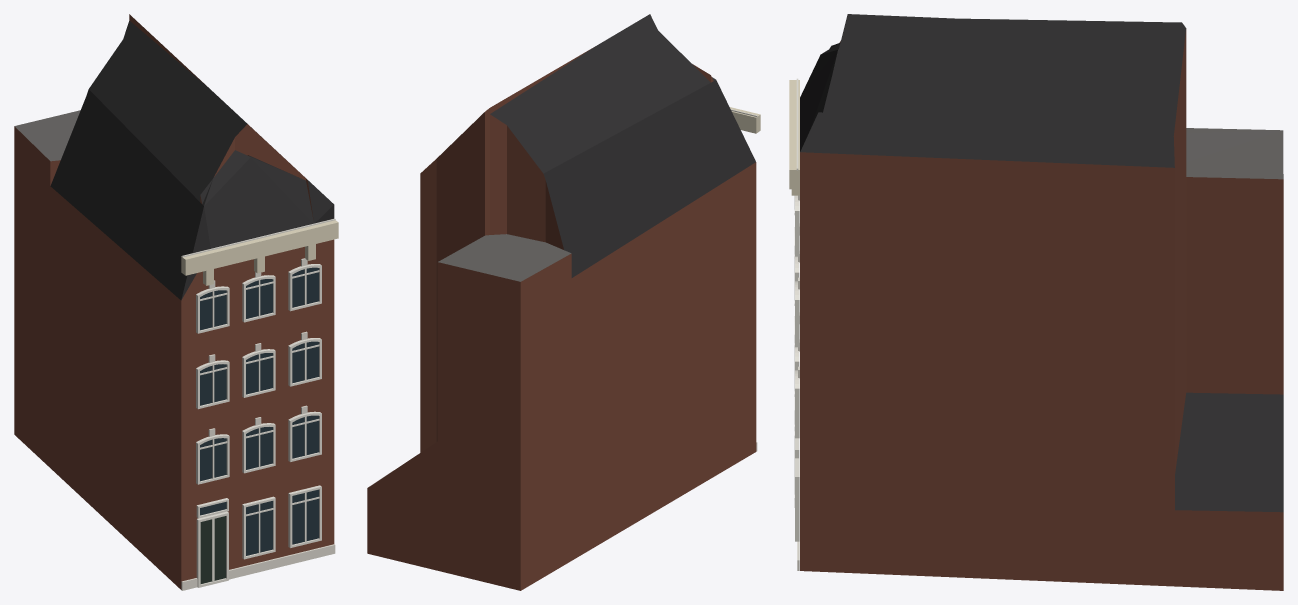
3 renders of one model, left to right at view 1: azimuth 30°, elevation 25°; view 2: azimuth 150°, elevation 25°; view 3: azimuth 270°, elevation 25°, orthographic. The views are drawn at different scales.
Parts seen in each view (by area): view 1: spec-0363100012182472; view 2: spec-0363100012182472; view 3: spec-0363100012182472.
Boxes of the visible parts, box(x1,y1,x2,y2) form: spec-0363100012182472: box(14, 14, 338, 590); spec-0363100012182472: box(367, 14, 760, 590); spec-0363100012182472: box(789, 14, 1283, 590).
Bounding box in the file's own units: 6.71 × 14.86 × 12.77.
